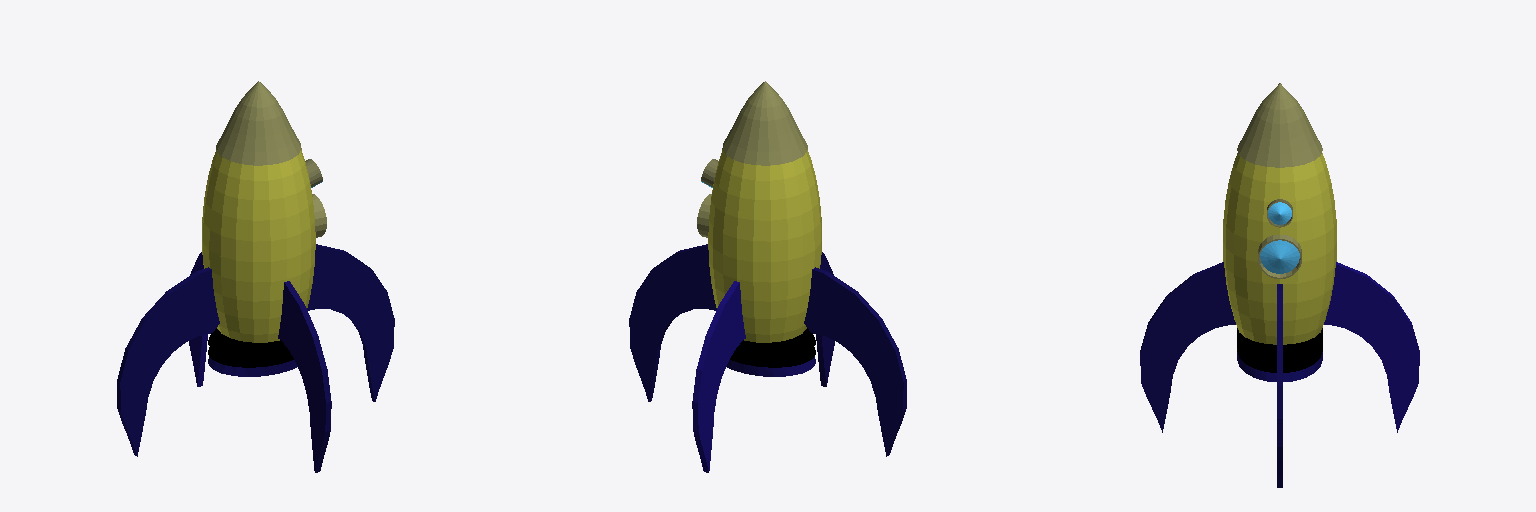
File: Rocket.obj
3 renders of one model, left to right at view 1: azimuth 30°, elevation 25°; view 2: azimuth 150°, elevation 25°; view 3: azimuth 270°, elevation 25°, orthographic.
Visible parts, largest first — view 1: pCylinder8 polySurface5, pCube4, pCube3, pCylinder8 polySurface7, pCube1, pCylinder8 polySurface3, pCylinder8 polySurface2, pCylinder8 polySurface4, pCube2; view 2: pCylinder8 polySurface5, pCube4, pCube3, pCylinder8 polySurface7, pCube2, pCylinder8 polySurface3, pCylinder8 polySurface2, pCylinder8 polySurface4, pCube1; view 3: pCylinder8 polySurface5, pCube1, pCube2, pCylinder8 polySurface7, polySurface1 pCylinder8, pCylinder8 polySurface3, pCube3, pCylinder8 polySurface2, pCylinder8 polySurface4, pCylinder8 polySurface6.
Boxes of the visible parts, <box> form: pCylinder8 polySurface5: <box>202,150,315,342</box>; pCube4: <box>117,267,219,456</box>; pCube3: <box>307,244,394,401</box>; pCylinder8 polySurface7: <box>216,81,301,165</box>; pCube1: <box>278,281,331,472</box>; pCylinder8 polySurface3: <box>208,328,288,357</box>; pCylinder8 polySurface2: <box>208,347,293,367</box>; pCylinder8 polySurface4: <box>208,356,297,376</box>; pCube2: <box>189,252,207,386</box>; pCylinder8 polySurface5: <box>708,150,821,342</box>; pCube4: <box>804,267,906,456</box>; pCube3: <box>629,244,716,401</box>; pCylinder8 polySurface7: <box>722,81,807,165</box>; pCube2: <box>692,281,745,472</box>; pCylinder8 polySurface3: <box>735,328,815,357</box>; pCylinder8 polySurface2: <box>730,347,815,367</box>; pCylinder8 polySurface4: <box>726,356,815,376</box>; pCube1: <box>816,252,834,386</box>; pCylinder8 polySurface5: <box>1223,153,1336,344</box>; pCube1: <box>1140,262,1235,432</box>; pCube2: <box>1324,262,1419,432</box>; pCylinder8 polySurface7: <box>1237,83,1322,167</box>; polySurface1 pCylinder8: <box>1258,235,1301,278</box>; pCylinder8 polySurface3: <box>1237,328,1322,362</box>; pCube3: <box>1277,284,1282,487</box>; pCylinder8 polySurface2: <box>1237,340,1322,372</box>; pCylinder8 polySurface4: <box>1237,349,1322,381</box>; pCylinder8 polySurface6: <box>1267,199,1292,227</box>.
Size of the model in its own units: 7.35 by 8.92 by 6.5.